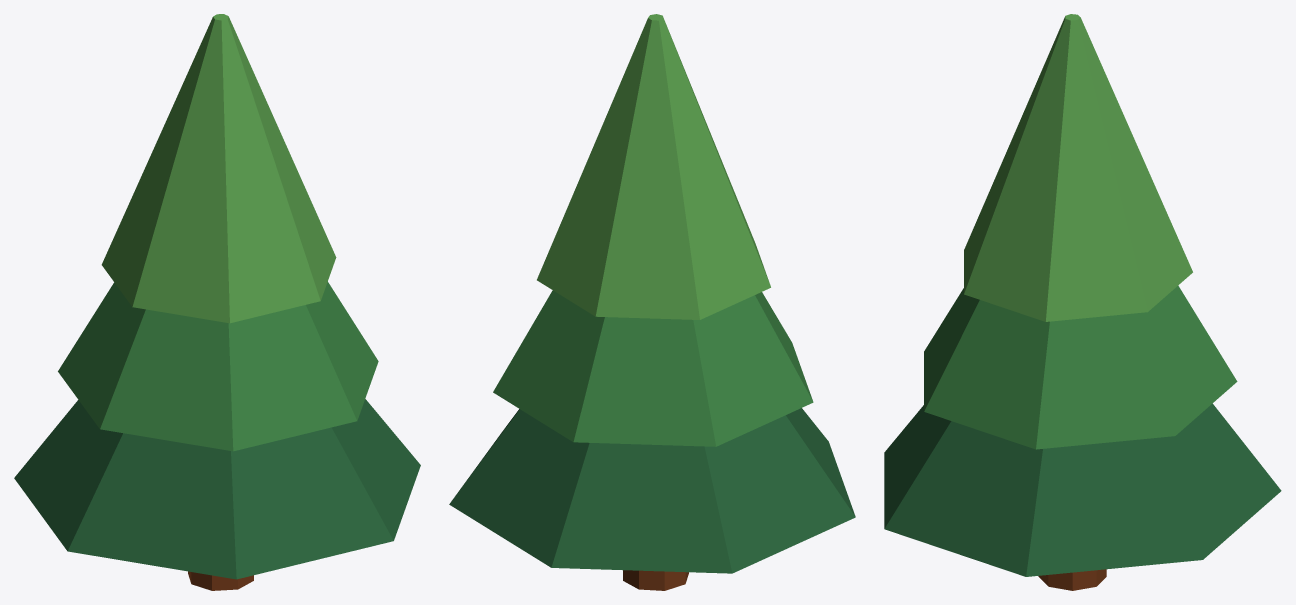
Rendered from pine.glb.
3 renders of one model, left to right at view 1: azimuth 30°, elevation 25°; view 2: azimuth 150°, elevation 25°; view 3: azimuth 270°, elevation 25°, orthographic.
Parts seen in each view (by area): view 1: crown, crown.002, crown.001, trunk; view 2: crown, crown.002, crown.001, trunk; view 3: crown, crown.002, crown.001, trunk.
Part boxes in pixels (x1,y1,x2,y2): crown: (14,399,420,579); crown.002: (101,14,336,323); crown.001: (58,281,378,451); trunk: (188,571,253,590); crown: (449,408,855,573); crown.002: (537,14,770,319); crown.001: (493,290,813,446); trunk: (623,570,688,590); crown: (884,403,1281,576); crown.002: (964,14,1192,321); crown.001: (924,285,1237,449); trunk: (1038,569,1106,590).
Size of the model in its own units: 2.03 by 3.07 by 1.98.
